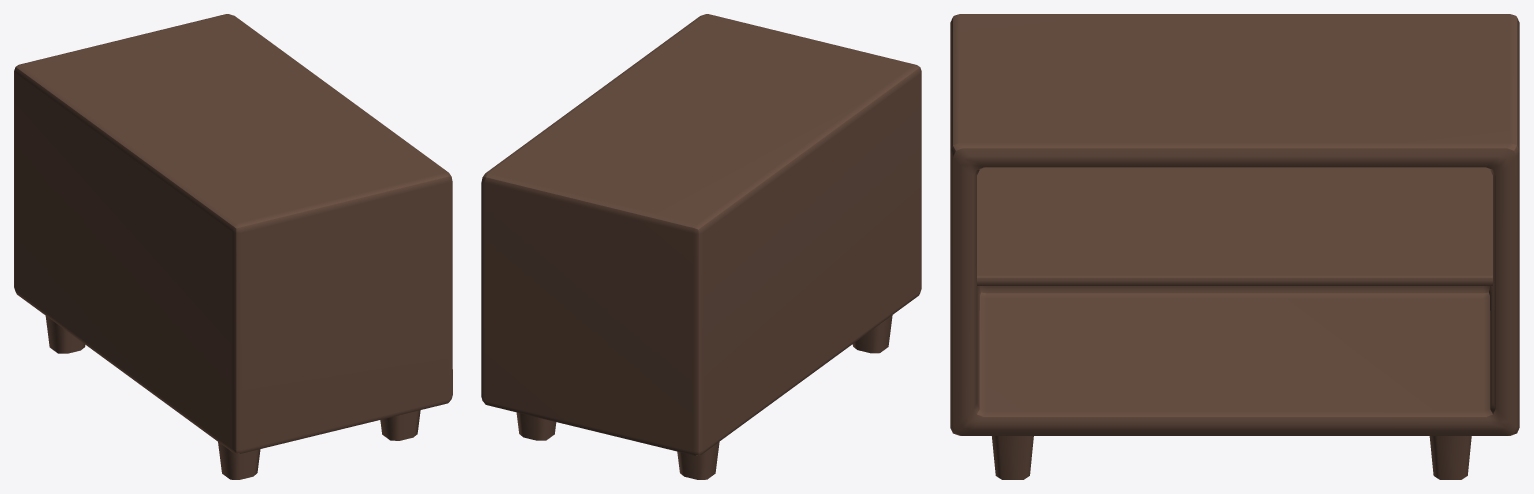
The model's file is meuble_cuisine.fbx.
3 renders of one model, left to right at view 1: azimuth 30°, elevation 25°; view 2: azimuth 150°, elevation 25°; view 3: azimuth 270°, elevation 25°, orthographic. The views are drawn at different scales.
Parts seen in each view (by area): view 1: pCube9; view 2: pCube9; view 3: pCube9.
Boxes of the visible parts, left/top/right/bottom form: pCube9: left=14, top=14, right=452, bottom=479; pCube9: left=481, top=14, right=921, bottom=479; pCube9: left=950, top=14, right=1519, bottom=479.
Bounding box in the file's own units: 362 × 425 × 637.
